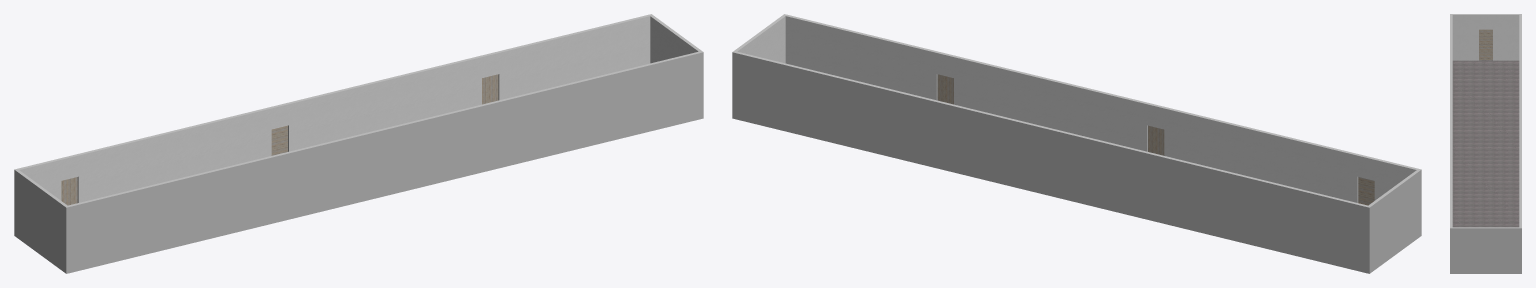
Rendered from Office-Hallway.obj.
The picture shows the model from 3 angles, left to right: view 1: azimuth 30°, elevation 25°; view 2: azimuth 150°, elevation 25°; view 3: azimuth 270°, elevation 25°; orthographic projection. The views are drawn at different scales.
Visible parts, largest first — view 1: mesh1, mesh12, mesh0, mesh5, mesh6, mesh15, mesh23, mesh19; view 2: mesh3, mesh34, mesh0, mesh5, mesh6, mesh32, mesh28, mesh37; view 3: mesh25, mesh2, mesh7, mesh5, mesh10.
Boxes of the visible parts, x1,y1,x2,y2 form: mesh1: (66, 52, 703, 273); mesh12: (19, 16, 650, 202); mesh0: (14, 170, 66, 273); mesh5: (14, 14, 703, 207); mesh6: (650, 16, 698, 63); mesh15: (482, 74, 498, 104); mesh23: (271, 125, 287, 155); mesh19: (61, 177, 77, 205); mesh3: (732, 52, 1369, 273); mesh34: (785, 16, 1416, 202); mesh0: (1369, 170, 1421, 273); mesh5: (732, 14, 1421, 207); mesh6: (737, 16, 785, 63); mesh32: (937, 74, 953, 104); mesh28: (1148, 125, 1164, 155); mesh37: (1358, 177, 1374, 205); mesh25: (1452, 60, 1519, 227); mesh2: (1450, 228, 1521, 273); mesh7: (1452, 15, 1519, 60); mesh5: (1450, 14, 1521, 228); mesh10: (1479, 29, 1492, 59).
Size of the model in its own units: 30.3 by 3.01 by 4.3.
